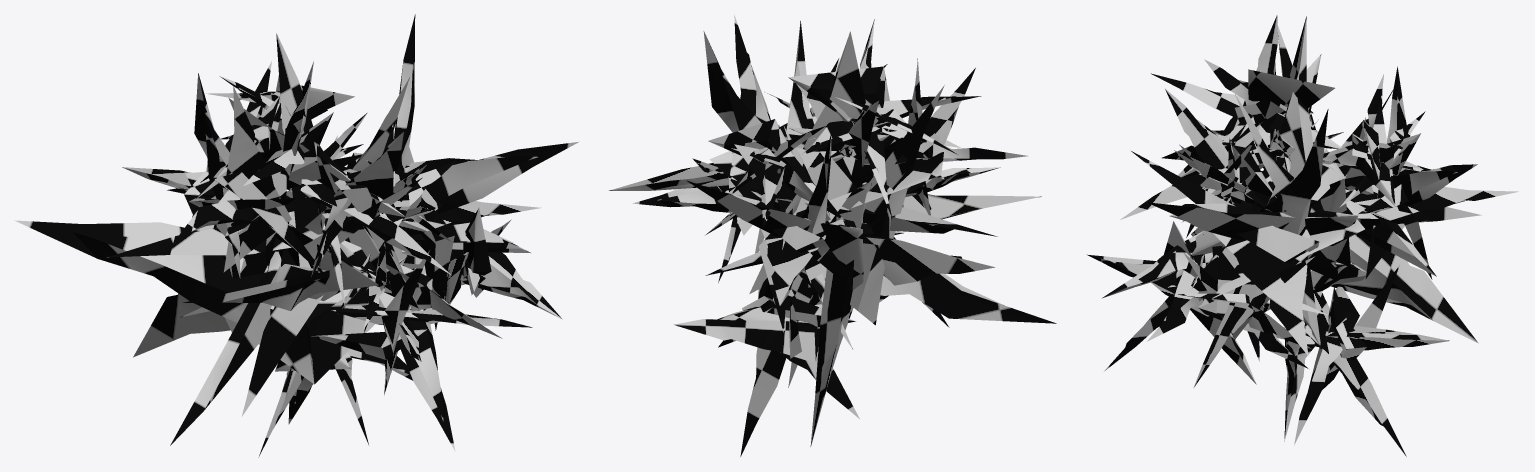
File: ice_meteoroid_boss.obj
The picture shows the model from 3 angles, left to right: view 1: azimuth 30°, elevation 25°; view 2: azimuth 150°, elevation 25°; view 3: azimuth 270°, elevation 25°; orthographic projection. The views are drawn at different scales.
Parts seen in each view (by area): view 1: meteoroid-boss; view 2: meteoroid-boss; view 3: meteoroid-boss.
Part boxes in pixels (x1,y1,x2,y2): meteoroid-boss: (14,14,579,457); meteoroid-boss: (609,15,1056,457); meteoroid-boss: (1087,15,1518,456).
Size of the model in its own units: 138 by 124 by 118.
1 material, 1 textured.
